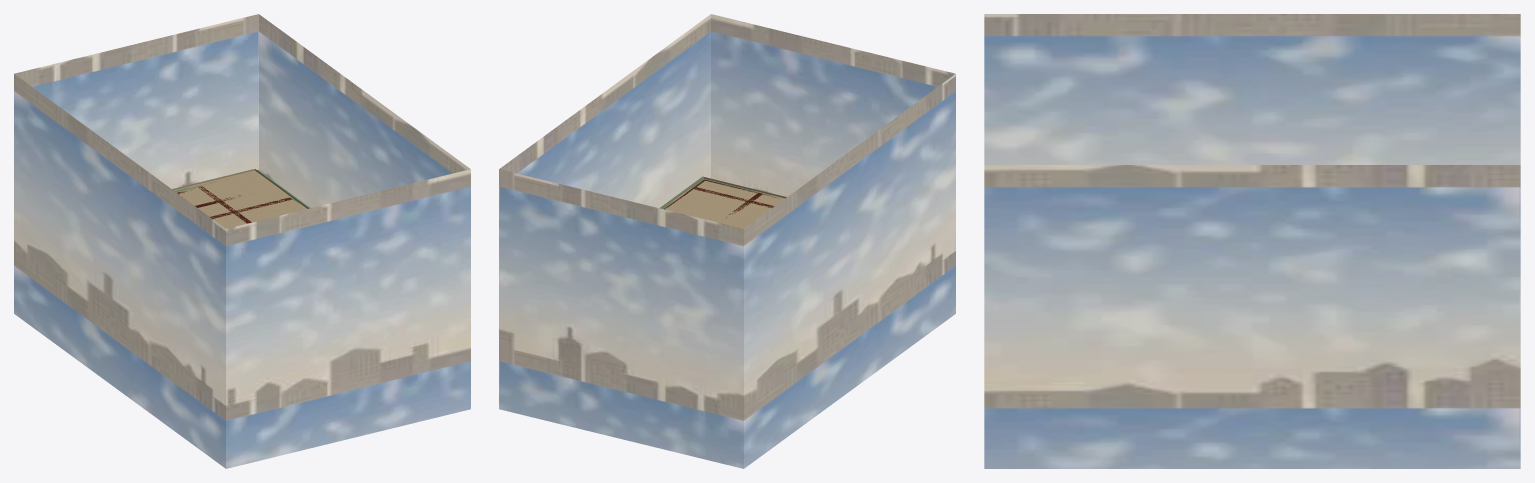
The model's file is office_shanghai.glb.
The picture shows the model from 3 angles, left to right: view 1: azimuth 30°, elevation 25°; view 2: azimuth 150°, elevation 25°; view 3: azimuth 270°, elevation 25°; orthographic projection. The views are drawn at different scales.
Parts seen in each view (by area): view 1: sky, office; view 2: sky, office; view 3: sky.
Boxes of the visible parts, <box> form: sky: <box>14,14,470,468</box>; office: <box>172,169,310,228</box>; sky: <box>499,14,955,468</box>; office: <box>659,176,786,228</box>; sky: <box>984,14,1520,468</box>.
Size of the model in its own units: 16 by 15 by 24.
91 materials, 64 textured.
